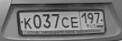license-plateSW: (20, 11, 104, 32)
